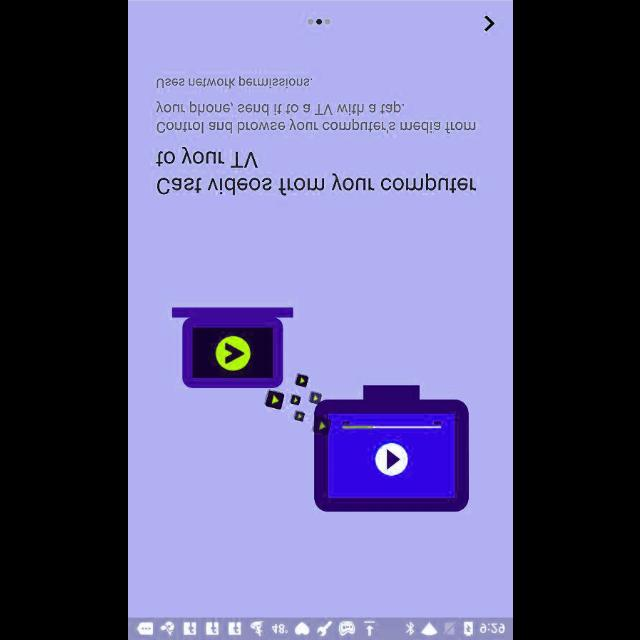icon: (483, 14, 495, 32)
image: (171, 308, 469, 512)
pageindicator: (306, 18, 330, 26)
text: (154, 147, 476, 195), (154, 101, 476, 133), (155, 76, 311, 90)
uppertaskbar: (128, 617, 512, 639)
